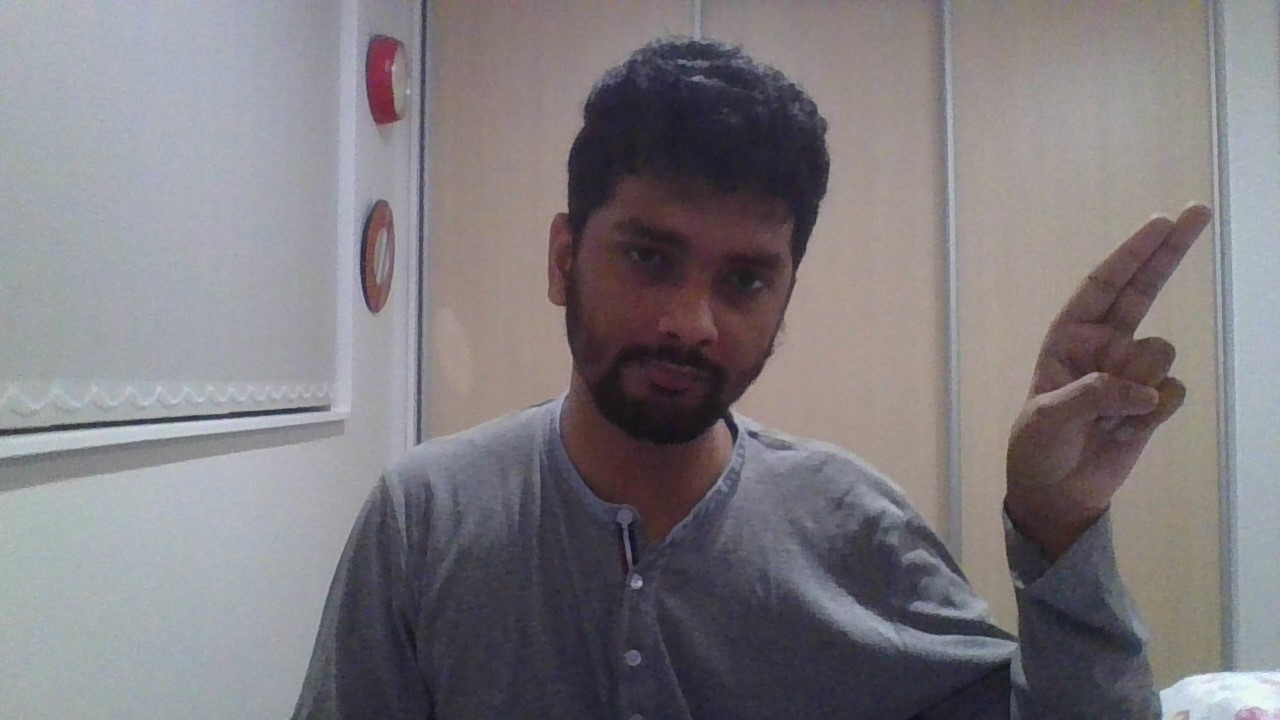peace: (1007, 201, 1213, 510)
